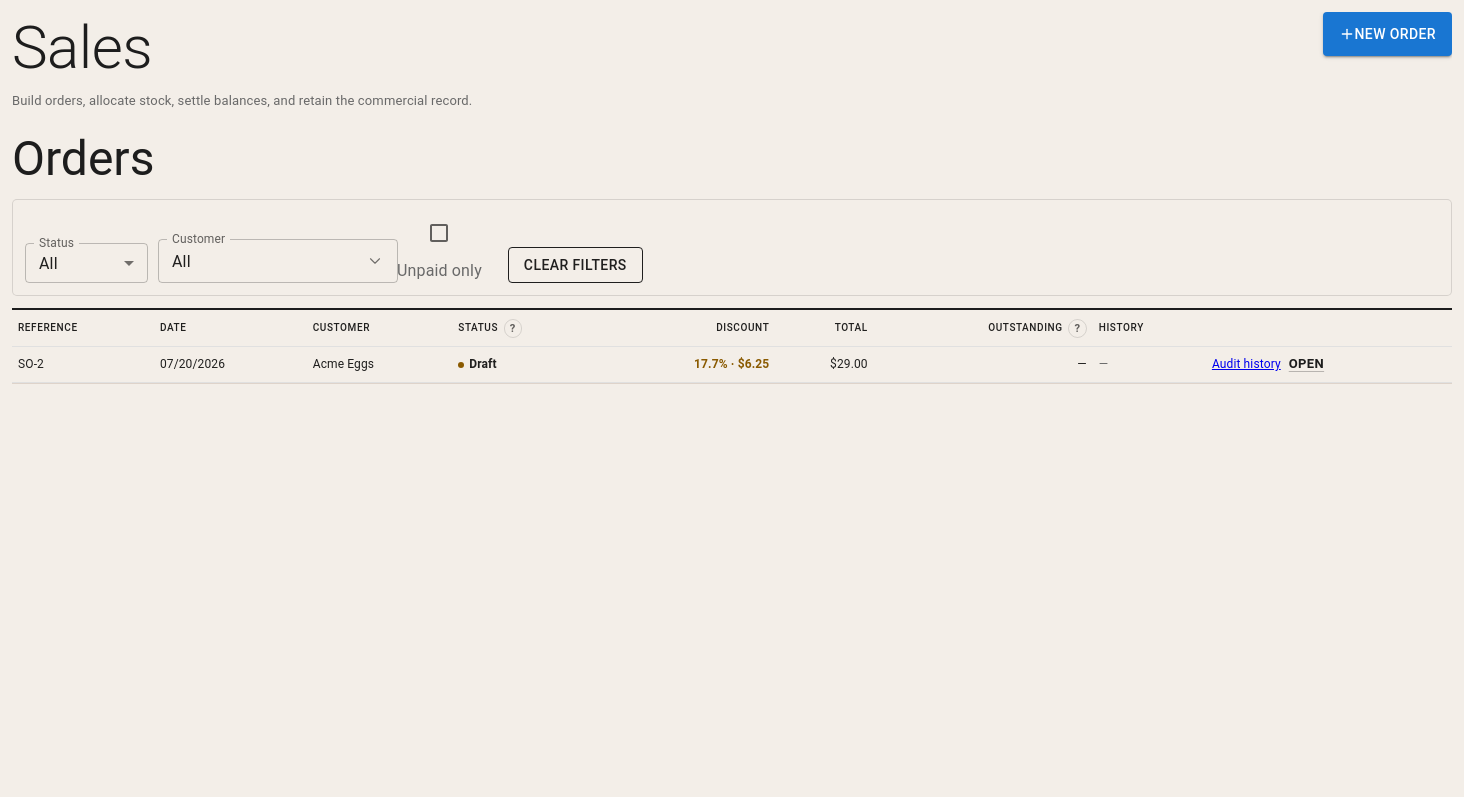
Test: SalesPage quantity unit clarity (#445) › previews stock commitment while a line changes without writing
Expected: the button "New order" is shown, [1322,12,1452,56]
Click the button "open" at (1306, 365), box [1289,353,1324,376]
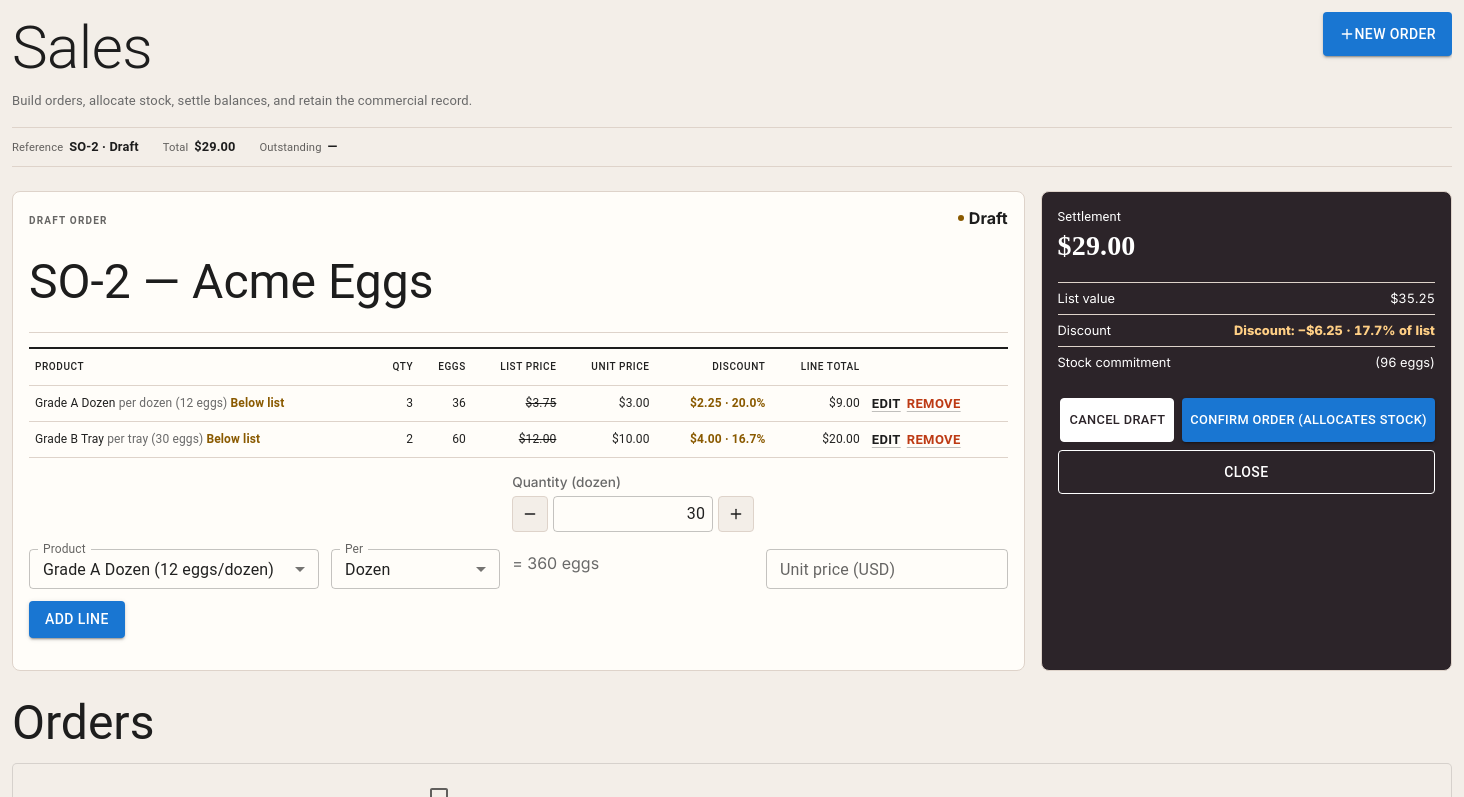
Expected: the text "(96 eggs)" is shown, [1375,355,1435,370]
Click the button "edit" in the row of "Grade A Dozen" at (886, 404), box [872,393,901,415]
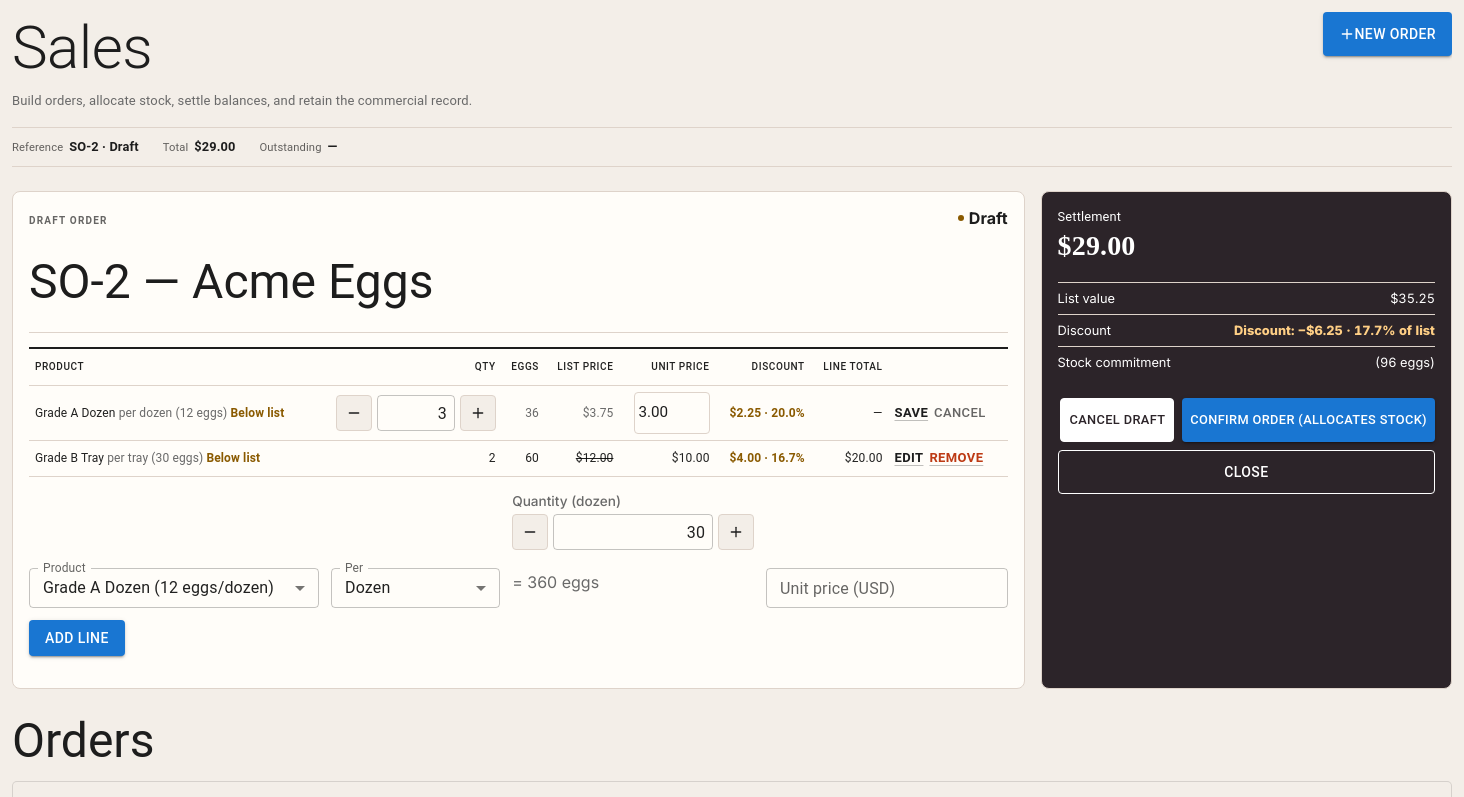
Replace the text in the number field named "Edit quantity" with "4" at (416, 413), box [377,395,455,431]
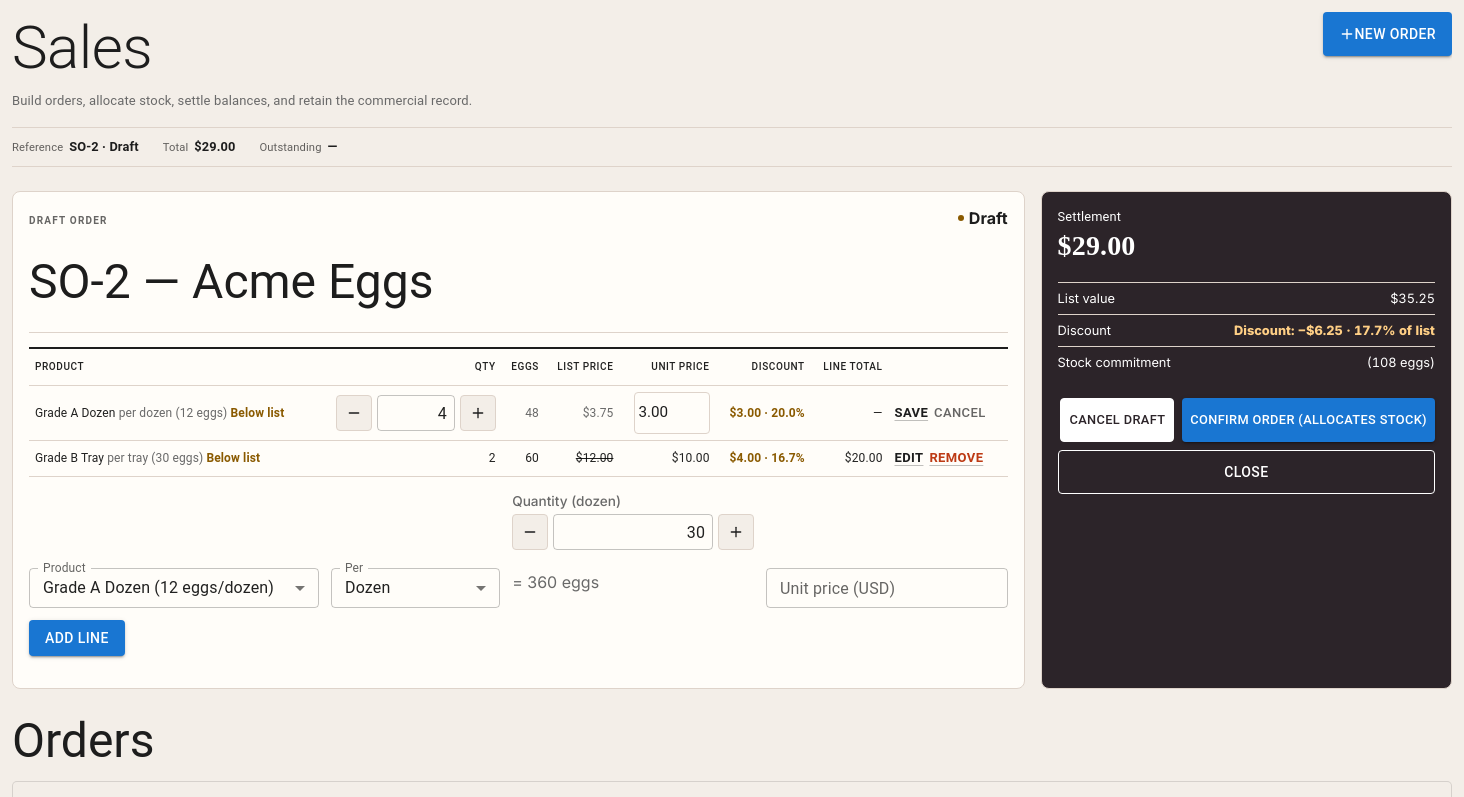
Expected: the text "(108 eggs)" is shown, [1367,355,1435,370]
Click the button "cancel" at (960, 413), box [934,402,986,425]
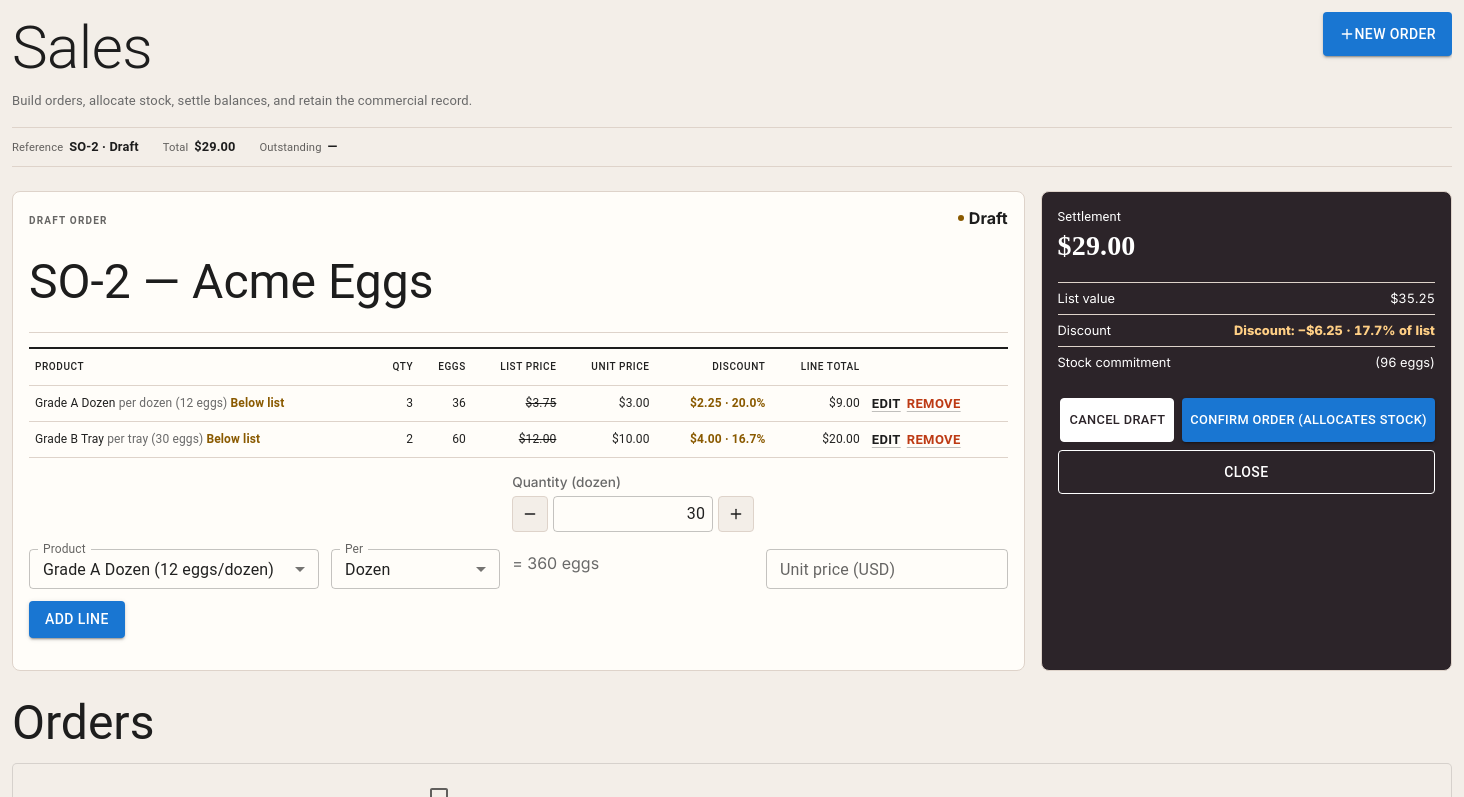
Expected: the text "(96 eggs)" is shown, [1375,355,1435,370]
